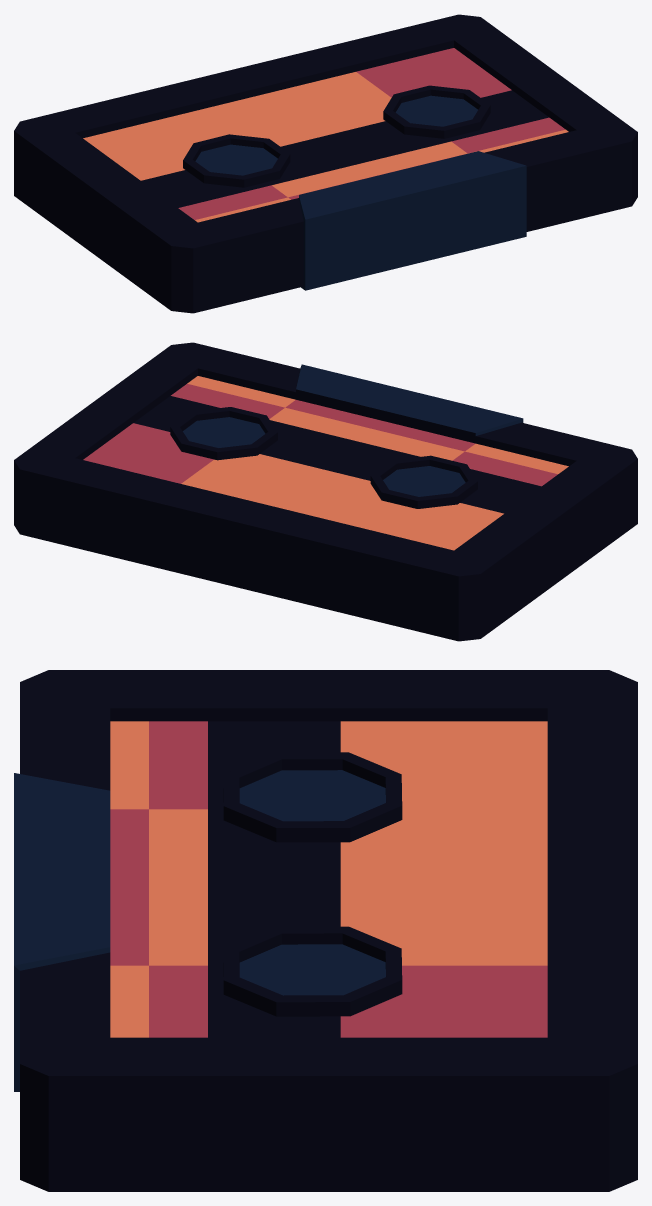
Rendered from Trash_Cassette_Orange.fbx.
3 views of the same model, one above another, from view 1: azimuth 30°, elevation 25°; view 2: azimuth 150°, elevation 25°; view 3: azimuth 270°, elevation 25° (orthographic). The views are drawn at different scales.
Parts seen in each view (by area): view 1: Cube.146; view 2: Cube.146; view 3: Cube.146.
Boxes of the visible parts, <box> form: Cube.146: <box>14,14,637,313</box>; Cube.146: <box>14,342,637,641</box>; Cube.146: <box>14,670,637,1191</box>.
Bounding box in the file's own units: 16.38 × 2.38 × 10.64.
